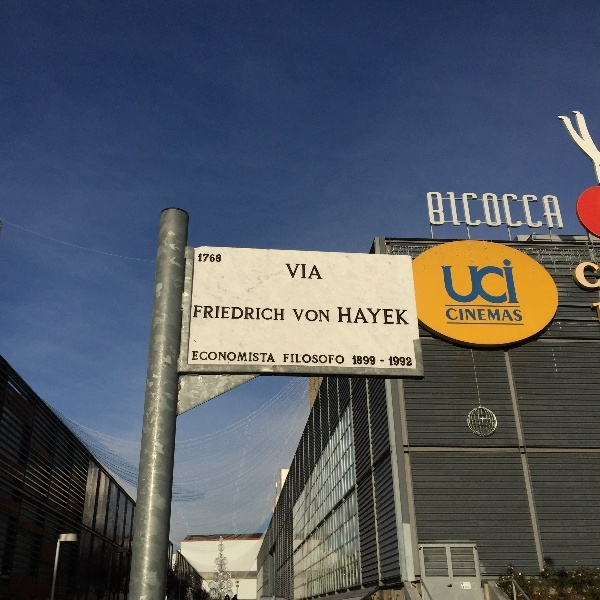text: (449, 259, 464, 303), (465, 259, 480, 303), (481, 259, 496, 303), (497, 259, 512, 303), (433, 192, 448, 228), (449, 192, 464, 228), (465, 192, 480, 228), (481, 192, 496, 228), (497, 192, 512, 228), (513, 192, 528, 228), (529, 192, 544, 228), (545, 192, 560, 228), (577, 261, 592, 292), (441, 259, 448, 303), (513, 259, 519, 303), (353, 308, 368, 325), (369, 308, 384, 325), (385, 308, 400, 325), (289, 264, 304, 280), (305, 264, 320, 280), (338, 308, 352, 325), (209, 306, 224, 321), (225, 306, 240, 321), (241, 306, 256, 321), (257, 306, 272, 321), (593, 261, 600, 292), (305, 309, 320, 323), (194, 306, 208, 321), (449, 309, 464, 322), (465, 309, 480, 322), (481, 309, 496, 322), (497, 309, 512, 322), (273, 306, 285, 321), (427, 192, 432, 228), (193, 351, 208, 362), (209, 351, 224, 362), (225, 351, 240, 362), (241, 351, 256, 362), (257, 351, 272, 362), (293, 309, 304, 323), (593, 302, 600, 324), (401, 308, 410, 325), (289, 354, 304, 364), (305, 354, 320, 364), (321, 354, 336, 364), (353, 355, 368, 365), (209, 253, 222, 263), (513, 309, 523, 322), (321, 309, 330, 323), (401, 357, 413, 366), (561, 192, 564, 228), (389, 357, 400, 366), (199, 253, 208, 263), (337, 354, 344, 364), (369, 355, 376, 365), (285, 264, 288, 280), (284, 354, 288, 364), (273, 351, 276, 362), (321, 264, 323, 280), (575, 261, 576, 292), (446, 309, 448, 322), (380, 360, 384, 362)
